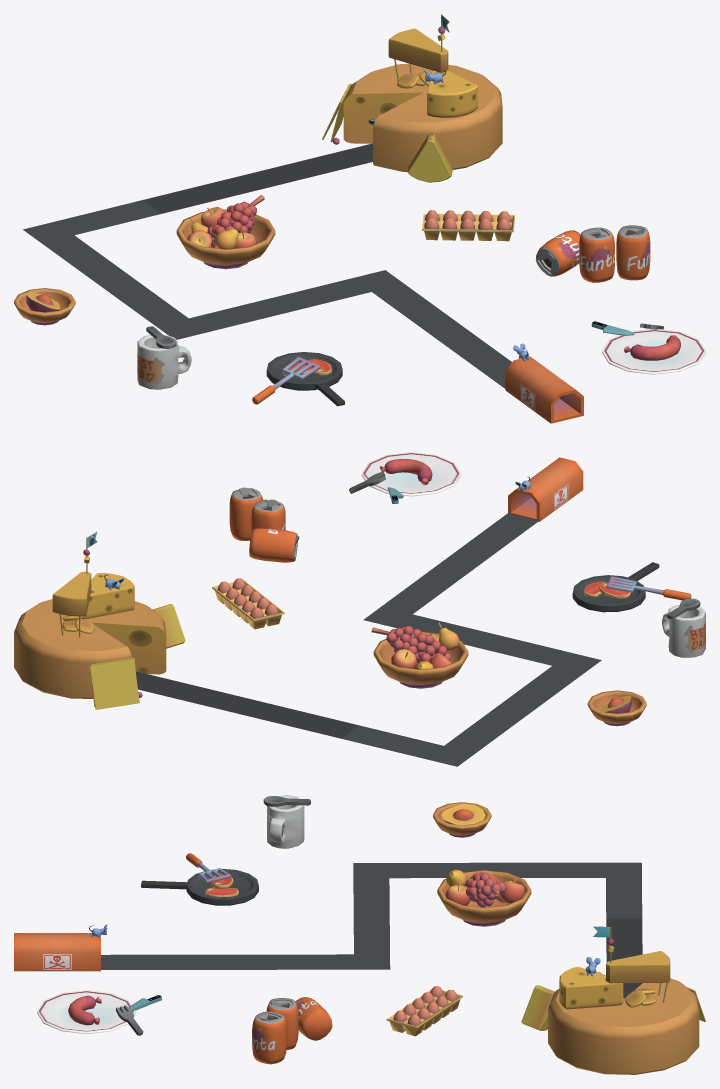
The picture shows the model from 3 angles, top to bottom: view 1: azimuth 30°, elevation 25°; view 2: azimuth 150°, elevation 25°; view 3: azimuth 270°, elevation 25°; orthographic projection. The views are drawn at different scales.
Parts seen in each view (by area): view 1: Path_Tutorial, Cheese_Roll, RatTrap2, Plate2, Eggs, BowlBig, Mug, Cheese_Slice_Big, Pan, Soda_Can, Cheese_Slice_Top, Soda_Can1 (+6 smaller); view 2: Path_Tutorial, Cheese_Roll, RatTrap2, Plate2, BowlBig, Cheese_Slice1, Eggs, Mug, Pan, Cheese_Slice_Big, Soda_Can2, Grapes (+7 smaller); view 3: Path_Tutorial, Cheese_Roll, RatTrap2, Plate2, Cheese_Slice_Big, BowlBig, Eggs, Pan, Cheese_Slice_Top, Soda_Can1, Mug, Soda_Can2 (+7 smaller).
Part boxes in pixels (left/top/right/bottom): Path_Tutorial: left=23, top=143, right=511, bottom=388; Cheese_Roll: left=343, top=63, right=502, bottom=171; RatTrap2: left=505, top=356, right=583, bottom=423; Plate2: left=602, top=329, right=705, bottom=374; Eggs: left=422, top=210, right=514, bottom=241; BowlBig: left=176, top=209, right=275, bottom=269; Mug: left=137, top=335, right=191, bottom=389; Cheese_Slice_Big: left=427, top=70, right=477, bottom=117; Pan: left=266, top=352, right=344, bottom=406; Soda_Can: left=579, top=227, right=614, bottom=282; Cheese_Slice_Top: left=388, top=28, right=448, bottom=72; Soda_Can1: left=616, top=225, right=650, bottom=280; Path_Tutorial: left=136, top=513, right=601, bottom=766; Cheese_Roll: left=14, top=599, right=166, bottom=698; RatTrap2: left=508, top=457, right=583, bottom=521; Plate2: left=361, top=452, right=461, bottom=496; BowlBig: left=373, top=631, right=468, bottom=688; Cheese_Slice1: left=90, top=659, right=139, bottom=709; Eggs: left=212, top=578, right=284, bottom=629; Mug: left=662, top=604, right=705, bottom=657; Pan: left=572, top=562, right=659, bottom=612; Cheese_Slice_Big: left=83, top=573, right=134, bottom=619; Soda_Can2: left=249, top=528, right=299, bottom=562; Grapes: left=371, top=626, right=451, bottom=663; Path_Tutorial: left=29, top=862, right=642, bottom=998; Cheese_Roll: left=548, top=971, right=699, bottom=1074; RatTrap2: left=14, top=933, right=100, bottom=971; Plate2: left=37, top=990, right=135, bottom=1033; Cheese_Slice_Big: left=559, top=966, right=623, bottom=1009; BowlBig: left=437, top=870, right=531, bottom=926; Eggs: left=386, top=986, right=462, bottom=1036; Pan: left=141, top=868, right=258, bottom=905; Cheese_Slice_Top: left=606, top=951, right=670, bottom=983; Soda_Can1: left=252, top=1011, right=287, bottom=1064; Mug: left=267, top=795, right=304, bottom=848; Soda_Can2: left=295, top=997, right=332, bottom=1040.
Size of what is drawn, in the model's own units: 34.07 by 7.72 by 38.37.
